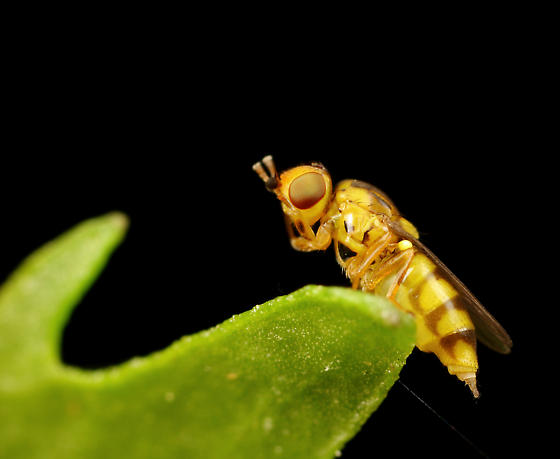Chloropidae: (254, 153, 510, 404)
